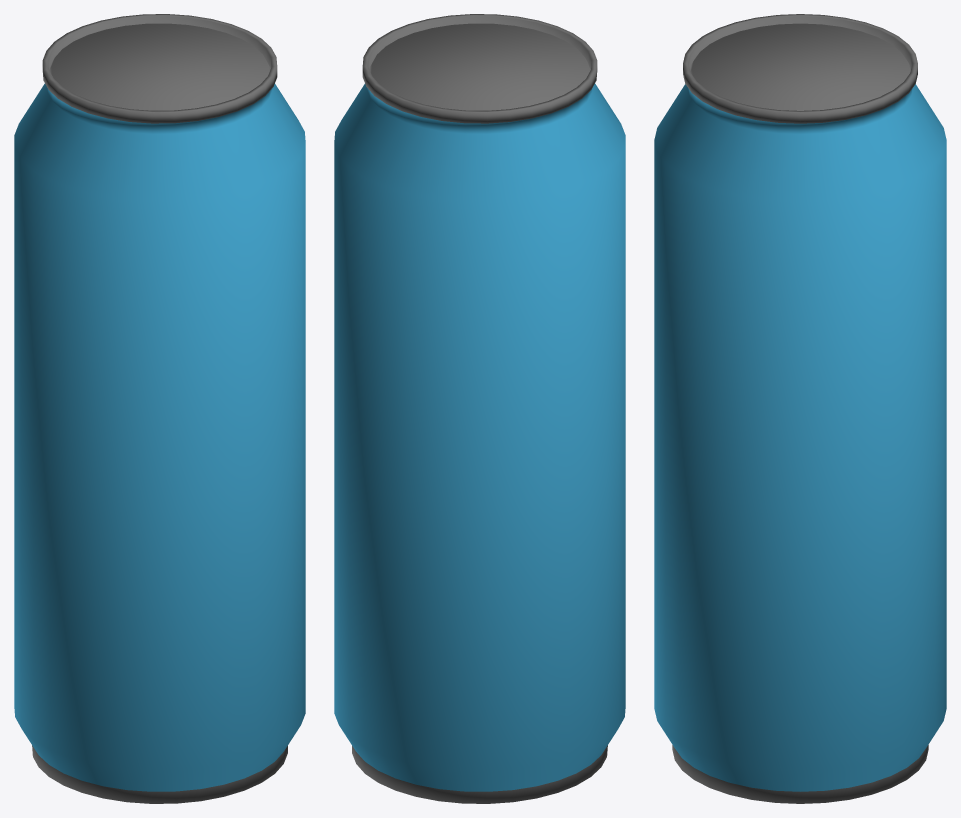
Rendered from lata.fbx.
The picture shows the model from 3 angles, left to right: view 1: azimuth 30°, elevation 25°; view 2: azimuth 150°, elevation 25°; view 3: azimuth 270°, elevation 25°; orthographic projection.
Parts seen in each view (by area): view 1: Cylinder; view 2: Cylinder; view 3: Cylinder.
Part boxes in pixels (box(x1,y1,x2,y2)): Cylinder: box(14, 14, 305, 803); Cylinder: box(334, 14, 625, 803); Cylinder: box(654, 14, 946, 803).
Size of the model in its own units: 200 by 518 by 200.
